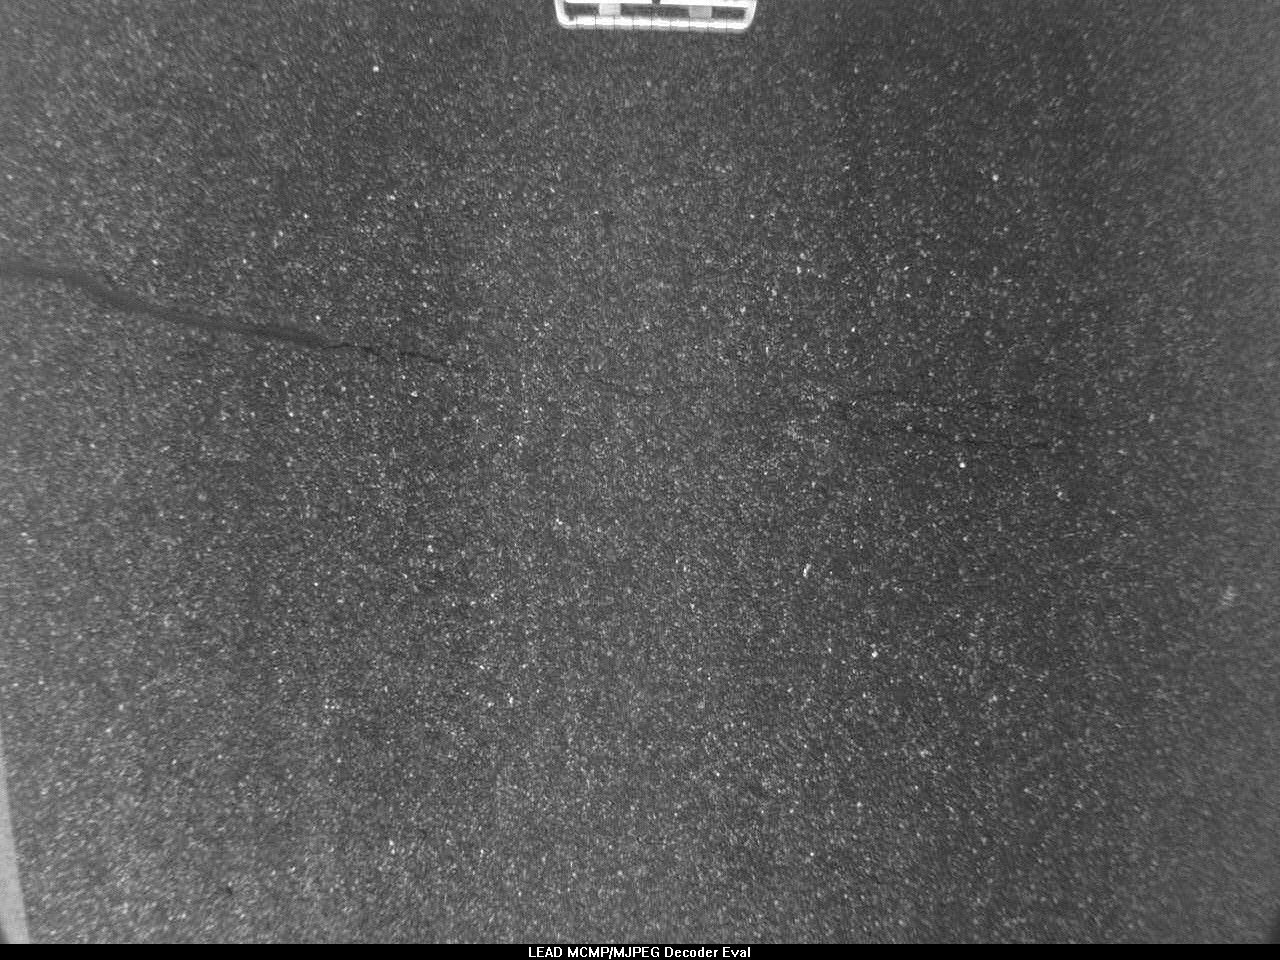transverse: (12, 240, 390, 381)
